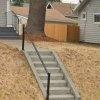stairs: (22, 48, 84, 100)
